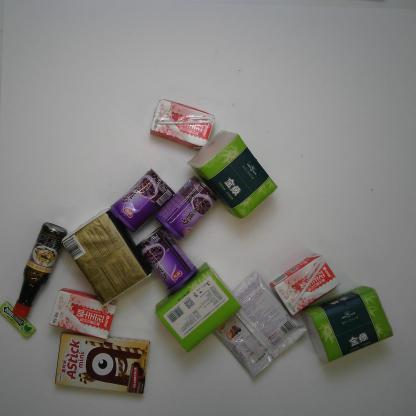Canned Food: (146, 173, 223, 242), (105, 166, 177, 236), (133, 225, 201, 298)
Dessert: (49, 328, 154, 398)
Gum: (0, 299, 38, 340)
Instant Drink: (209, 266, 310, 380)
Milk: (269, 253, 346, 319), (46, 286, 123, 342), (145, 94, 217, 151)
Seasoner: (8, 220, 70, 324)
Tissue: (55, 206, 155, 308), (185, 129, 284, 222), (150, 260, 245, 356), (299, 278, 396, 368)
